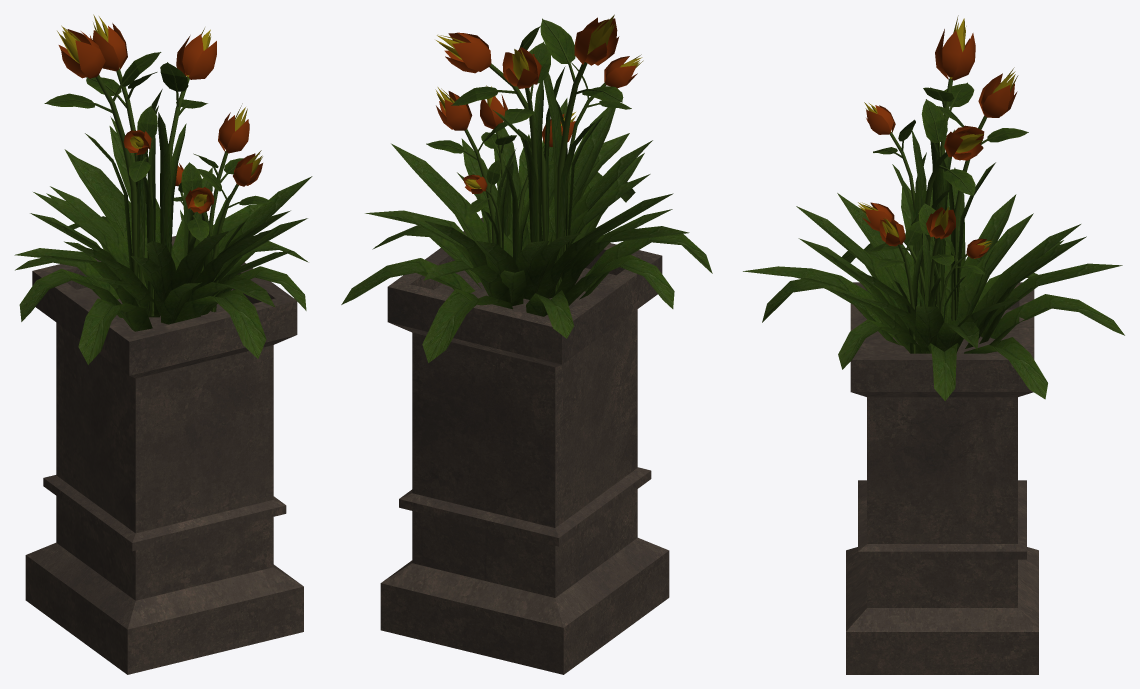
Rendered from INS PLANT MED 3.fbx.
3 views of the same model, side by side, from view 1: azimuth 30°, elevation 25°; view 2: azimuth 150°, elevation 25°; view 3: azimuth 270°, elevation 25° (orthographic). The views are drawn at different scales.
Parts seen in each view (by area): view 1: INS PLANT MED 3; view 2: INS PLANT MED 3; view 3: INS PLANT MED 3.
Part boxes in pixels (bbox=[...]): INS PLANT MED 3: bbox=[14, 14, 312, 674]; INS PLANT MED 3: bbox=[341, 14, 712, 674]; INS PLANT MED 3: bbox=[743, 15, 1124, 674].
Bounding box in the file's own units: 94.69 × 183 × 110.
